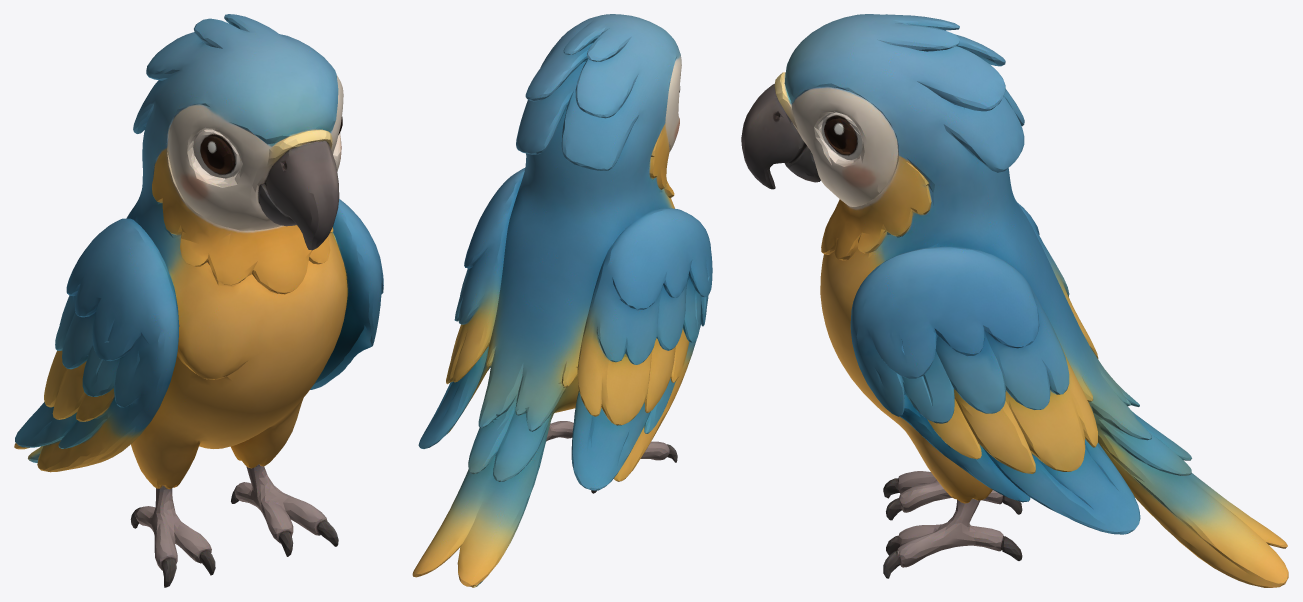
Rendered from parrot.glb.
The picture shows the model from 3 angles, left to right: view 1: azimuth 30°, elevation 25°; view 2: azimuth 150°, elevation 25°; view 3: azimuth 270°, elevation 25°; orthographic projection. The views are drawn at different scales.
Visible parts, largest first — view 1: Mesh; view 2: Mesh; view 3: Mesh.
Part boxes in pixels (box(x1,y1,x2,y2)): Mesh: box(14, 14, 383, 587); Mesh: box(412, 14, 712, 587); Mesh: box(741, 14, 1288, 587).
Size of the model in its own units: 0.9794 by 1.89 by 1.72.
Materials: 1 (1 with a texture image).
